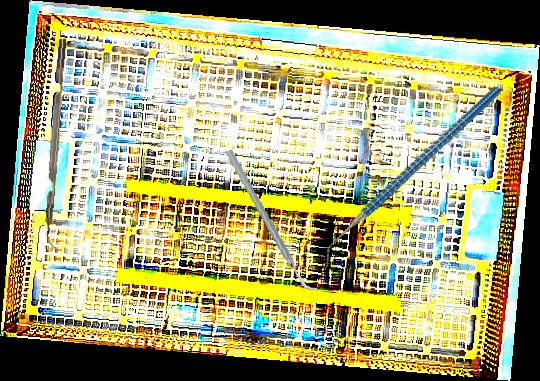Chopper: (285, 85, 538, 270), (223, 142, 319, 299), (40, 38, 77, 252)
